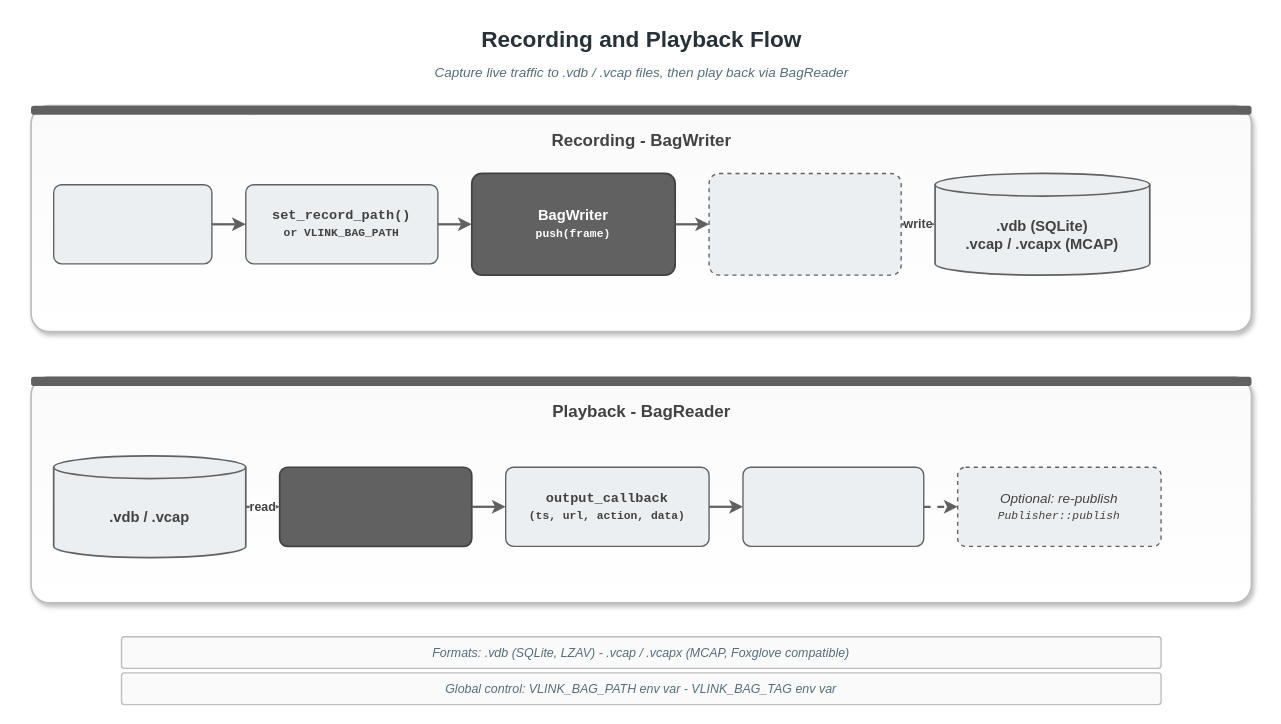
Image size: 1281x724. Some labels were removed from this diagram. Here are the shapes that lost their labels. From the top down, the centre of each, then its label:
At (132,224): "Publisher publish(msg)".
At (804,223): "Compress LZAV (SQLite) zstd / lz4 (MCAP)".
At (375,506): "BagReader play(config)".
At (833,506): "Application process data".
